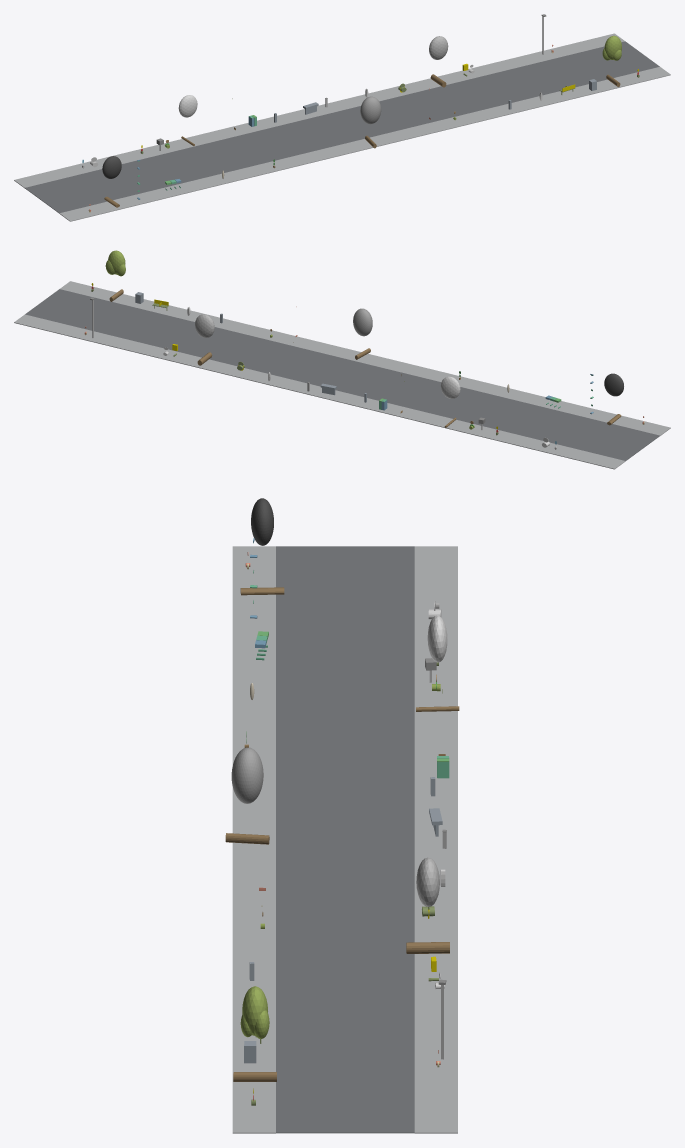
The picture shows the model from 3 angles, top to bottom: view 1: azimuth 30°, elevation 25°; view 2: azimuth 150°, elevation 25°; view 3: azimuth 270°, elevation 25°; orthographic projection. The views are drawn at different scales.
Parts seen in each view (by area): view 1: road_slab, sidewalk_left, sidewalk_right, inst_0014, inst_0016, inst_0015, inst_0012, inst_0013; view 2: road_slab, sidewalk_right, sidewalk_left, inst_0014, inst_0016, inst_0015, inst_0012, inst_0013; view 3: road_slab, sidewalk_right, sidewalk_left, inst_0014, inst_0016, inst_0015, inst_0012, inst_0013.
Part boxes in pixels (x1=…): road_slab: x1=25, y1=41, x2=659, y2=213; sidewalk_left: x1=59, y1=67, x2=670, y2=221; sidewalk_right: x1=14, y1=33, x2=624, y2=188; inst_0014: x1=360, y1=96, x2=381, y2=148; inst_0016: x1=602, y1=35, x2=621, y2=86; inst_0015: x1=429, y1=36, x2=448, y2=87; inst_0012: x1=102, y1=156, x2=121, y2=207; inst_0013: x1=178, y1=95, x2=197, y2=145; road_slab: x1=25, y1=289, x2=659, y2=461; sidewalk_right: x1=14, y1=314, x2=625, y2=469; sidewalk_left: x1=60, y1=281, x2=670, y2=435; inst_0014: x1=353, y1=308, x2=372, y2=359; inst_0016: x1=105, y1=250, x2=125, y2=301; inst_0015: x1=195, y1=314, x2=214, y2=365; inst_0012: x1=604, y1=373, x2=623, y2=425; inst_0013: x1=440, y1=376, x2=460, y2=427; road_slab: x1=276, y1=546, x2=414, y2=1133; sidewalk_right: x1=414, y1=546, x2=457, y2=1133; sidewalk_left: x1=232, y1=546, x2=275, y2=1133; inst_0014: x1=225, y1=747, x2=269, y2=844; inst_0016: x1=233, y1=986, x2=276, y2=1081; inst_0015: x1=406, y1=857, x2=449, y2=953; inst_0012: x1=240, y1=498, x2=284, y2=595; inst_0013: x1=416, y1=615, x2=459, y2=711.
Size of the model in its own units: 80 by 6.08 by 13.48.
